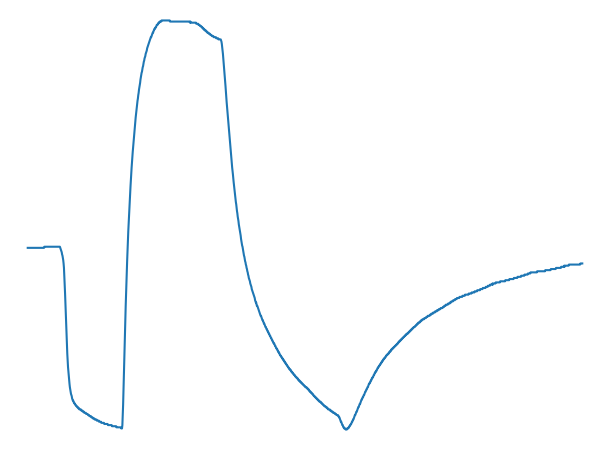decrease: (215, 30, 226, 49), (53, 242, 65, 254)
increase: (114, 416, 128, 433)
